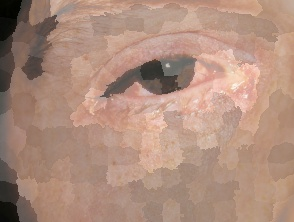SJS-TEN: (95, 48, 271, 155)
